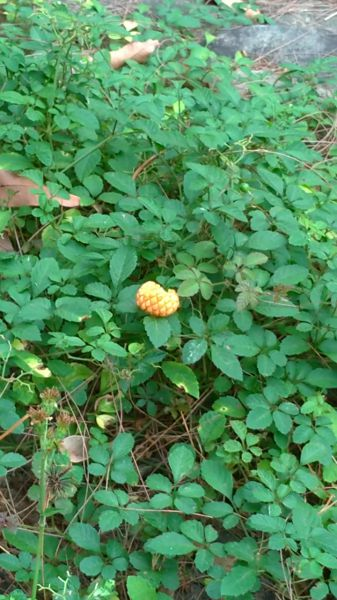eggs: (132, 275, 184, 326)
